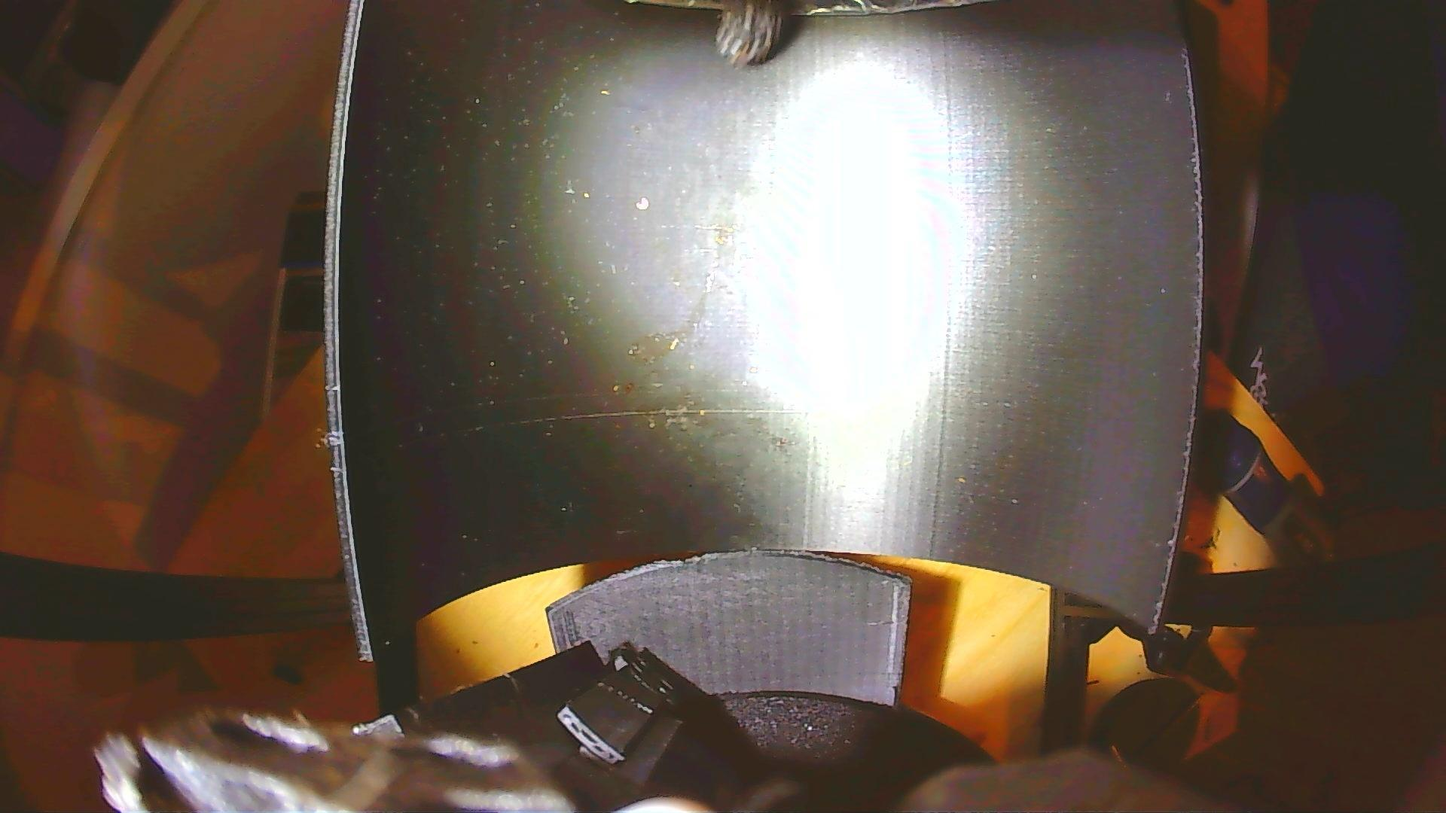berry: (715, 0, 789, 65)
